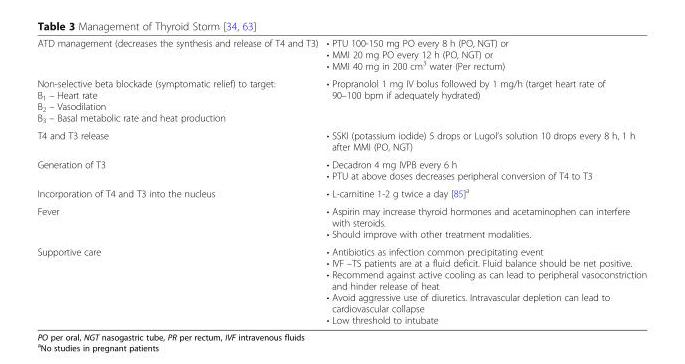table: (36, 37, 646, 325)
table column: (321, 37, 646, 325), (36, 37, 321, 325)
table row: (36, 242, 646, 325), (36, 74, 646, 126), (36, 202, 646, 242), (36, 37, 646, 74), (36, 126, 646, 155), (36, 155, 646, 183), (36, 183, 646, 202)
